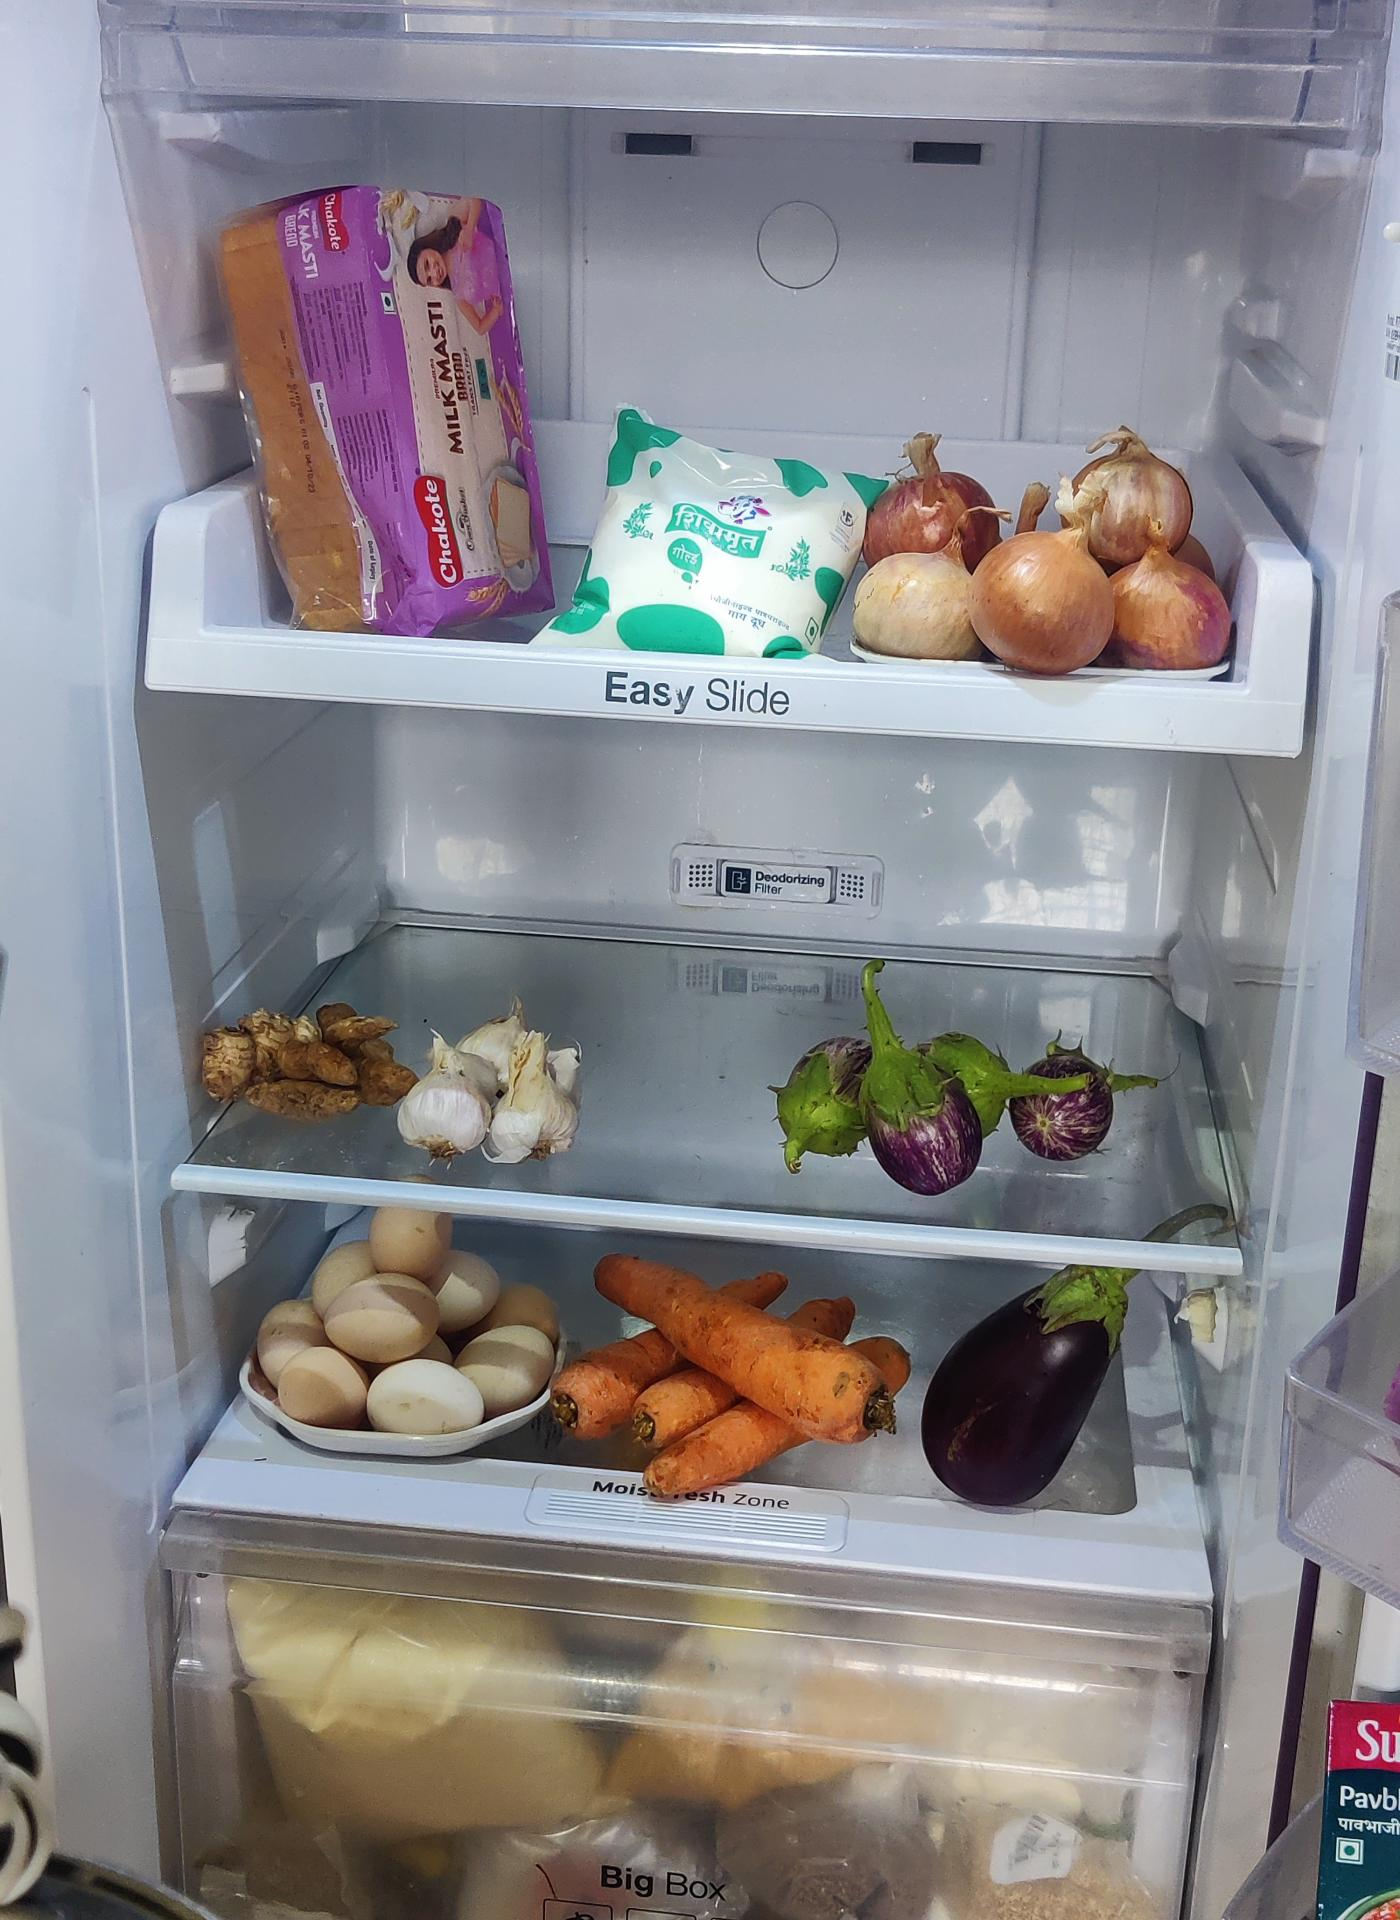bread: (215, 183, 555, 640)
brinjal: (762, 1024, 1103, 1182), (935, 1261, 1141, 1504)
carrots: (568, 1248, 921, 1495)
egg: (240, 1199, 555, 1431)
garlic: (398, 1000, 581, 1167)
ginger: (194, 999, 414, 1124)
milk: (559, 400, 865, 659)
onion: (851, 432, 1240, 677)
